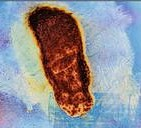Corrosion: (26, 5, 95, 118)
